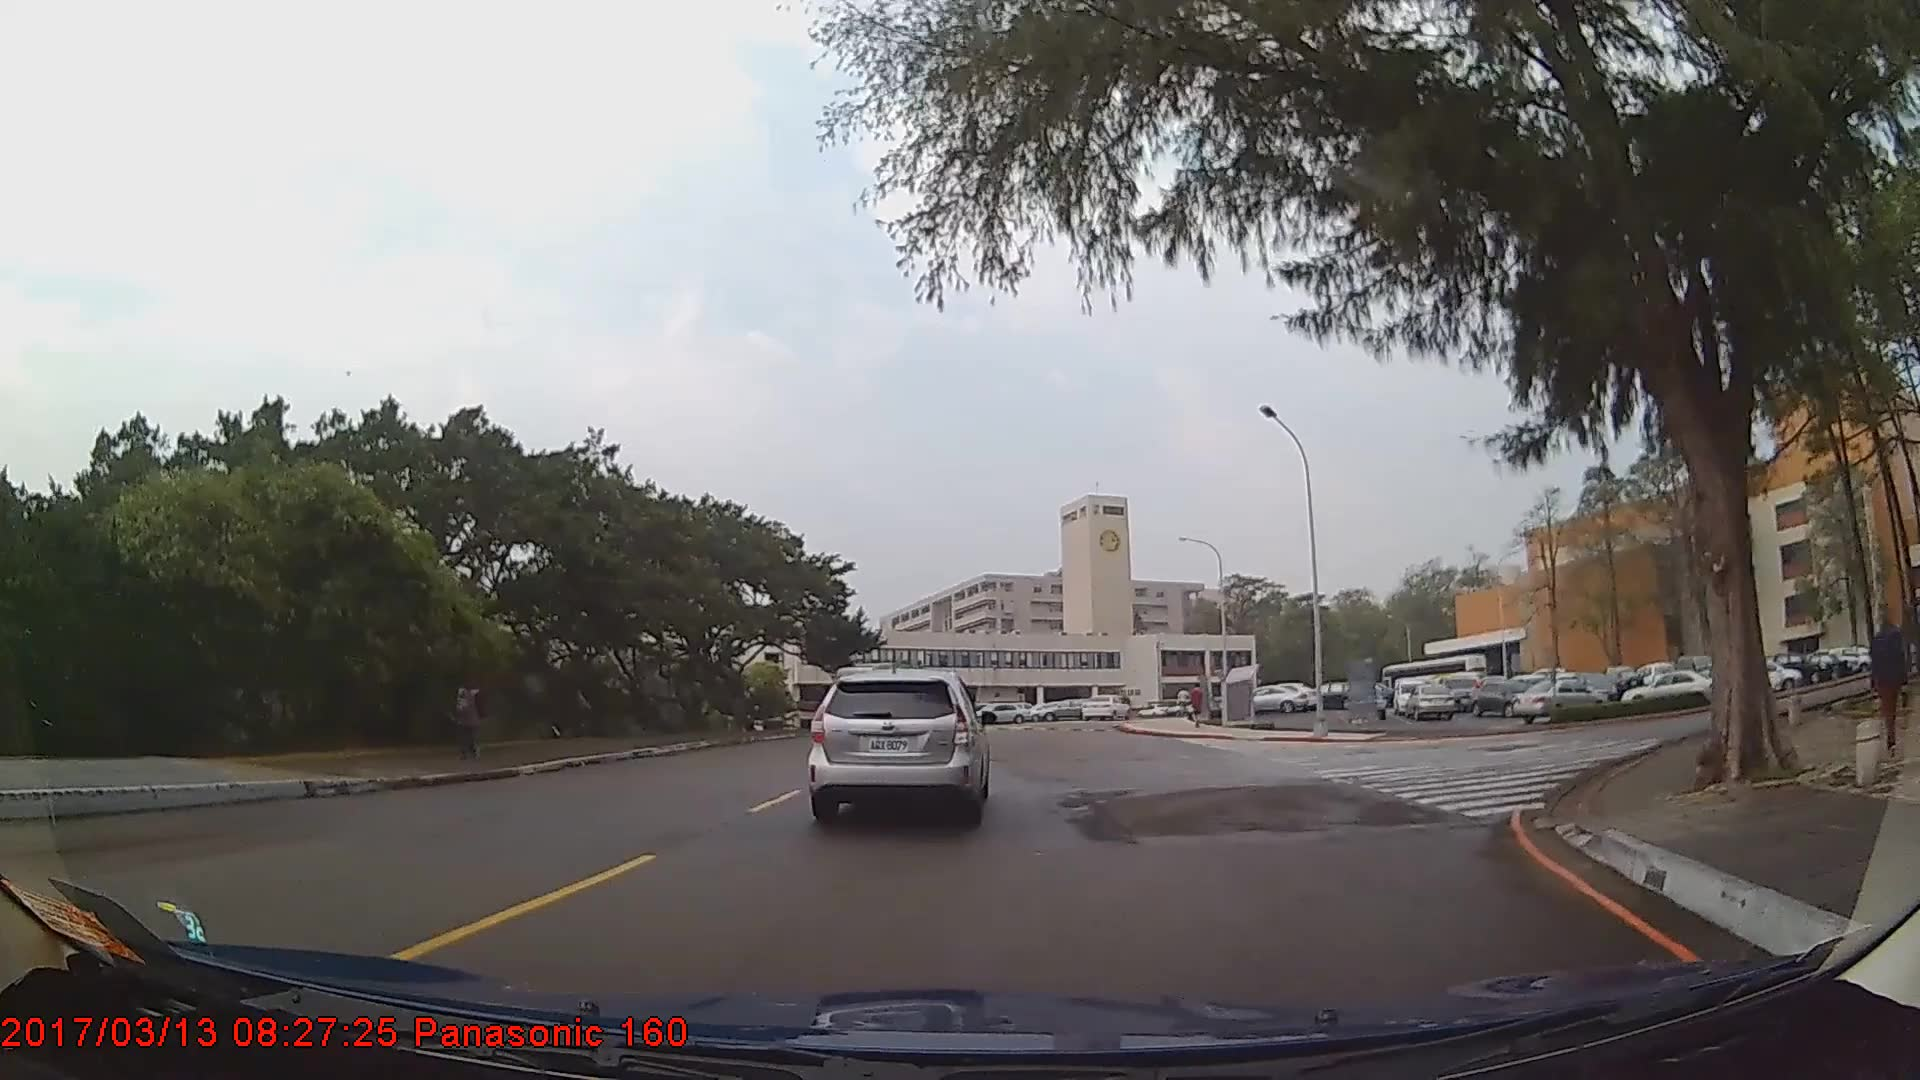pedestrian: (448, 667, 491, 757)
vehicle: (809, 666, 988, 823), (1510, 677, 1606, 725), (1622, 665, 1719, 712), (1469, 673, 1545, 715), (1406, 680, 1456, 720), (1239, 684, 1308, 712), (1078, 693, 1130, 722), (1033, 695, 1093, 720), (973, 700, 1030, 722)
